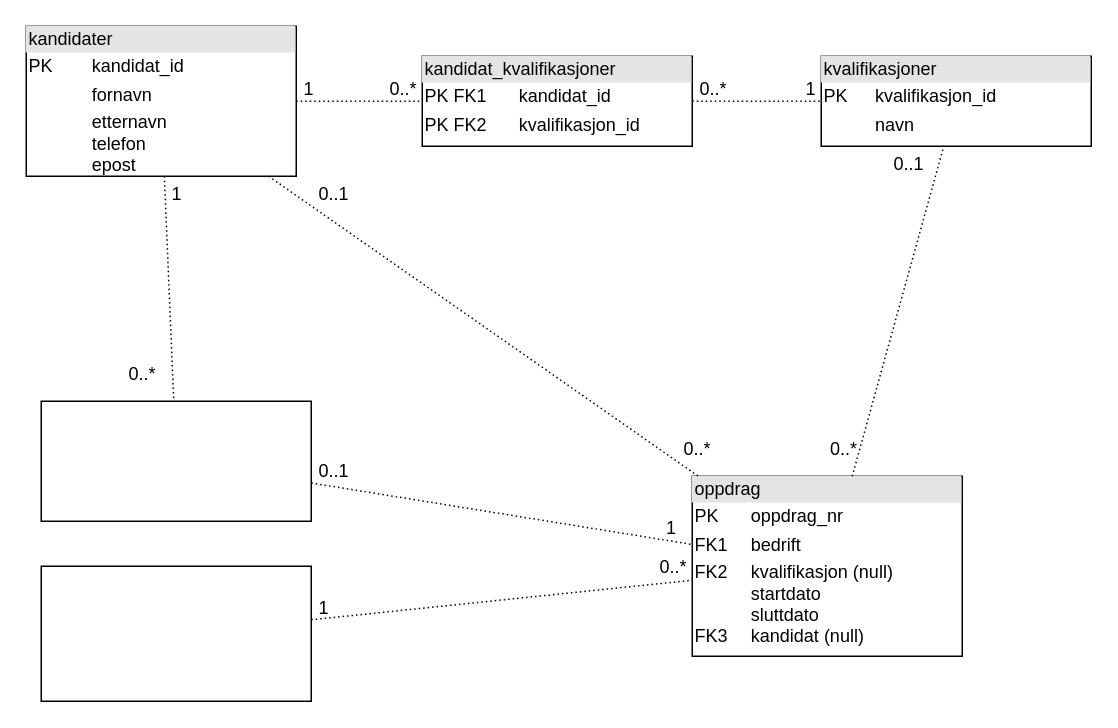
Image size: 1118x728. Some labels were removed from this diagram. The shapes that lost their labels are listed below. From the top down, each one's centre as x and y in pixels, then its label:
At [175,460]: "sluttattester PK FK1 kandidat PK FK2 oppdrag".
At [175,633]: "bedrifter PK org_nr navn telefon epost".
